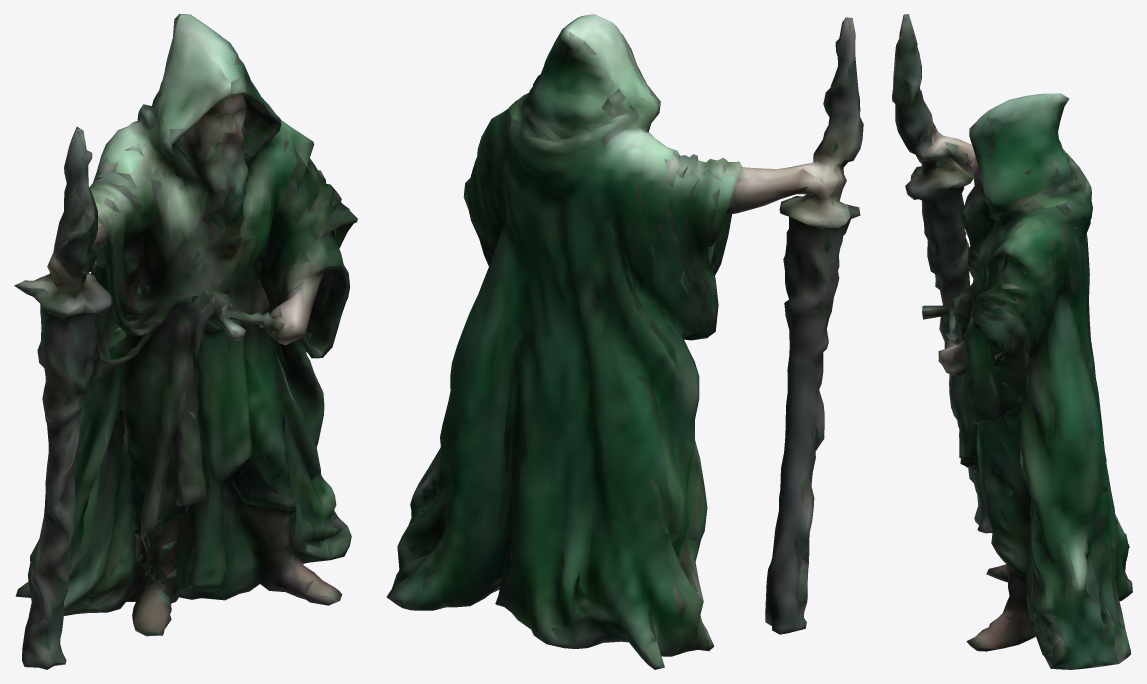
Rendered from Charondell (small)_final.glb.
3 renders of one model, left to right at view 1: azimuth 30°, elevation 25°; view 2: azimuth 150°, elevation 25°; view 3: azimuth 270°, elevation 25°, orthographic. The views are drawn at different scales.
Parts seen in each view (by area): view 1: Mesh1.0; view 2: Mesh1.0; view 3: Mesh1.0.
Part boxes in pixels (box(x1,y1,x2,y2)): Mesh1.0: box(14, 14, 357, 669); Mesh1.0: box(386, 14, 863, 669); Mesh1.0: box(892, 14, 1132, 669).
Size of the model in its own units: 1.35 by 1.91 by 0.8175.
Materials: 1 (1 with a texture image).
